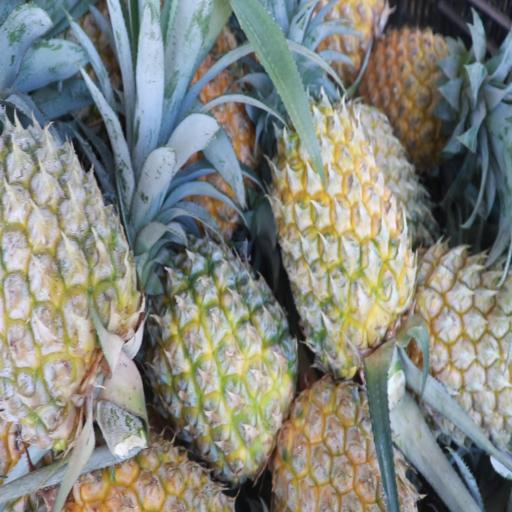------------------------------: (0, 132, 142, 448), (156, 247, 289, 471), (409, 239, 512, 428)
Pineapple - v8 v1: (278, 102, 411, 360), (280, 375, 416, 512), (371, 18, 486, 164)
